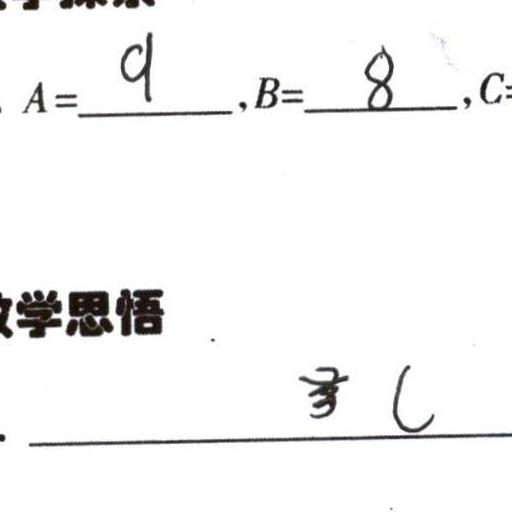ans: (386, 360, 437, 436), (117, 29, 158, 105), (362, 45, 397, 110)
